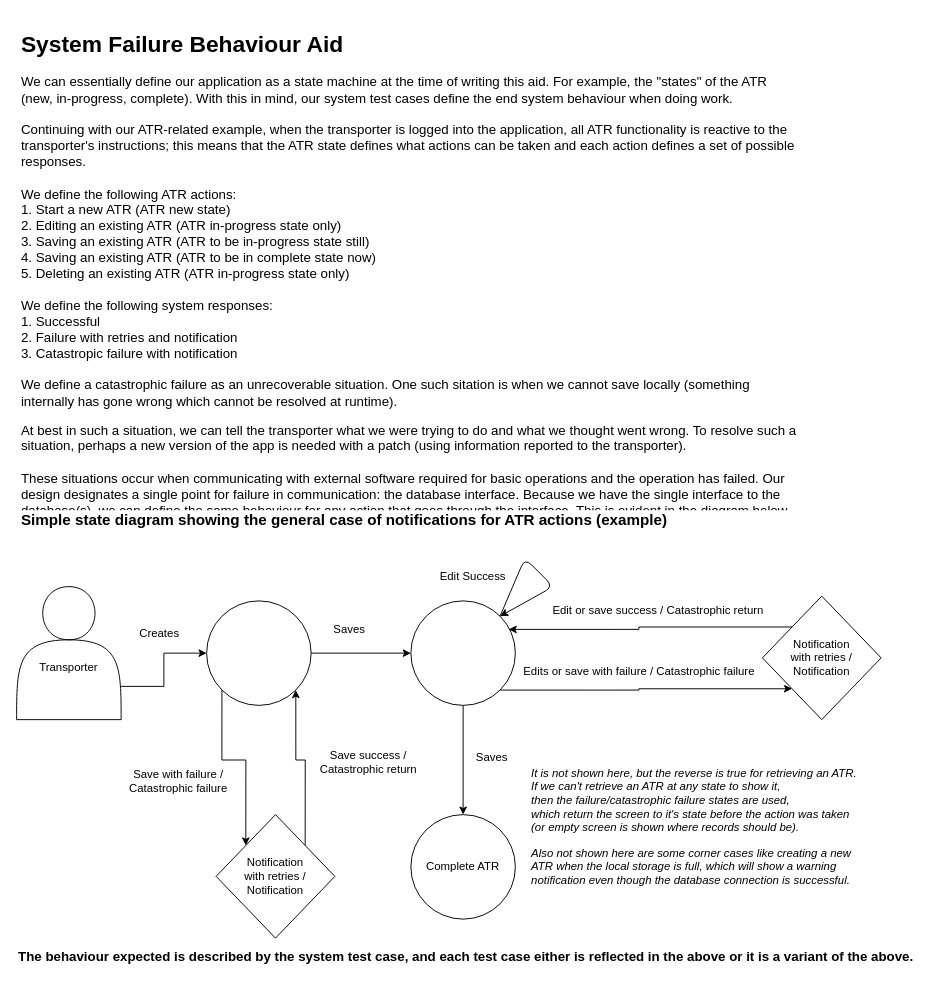
Image size: 945x982. Some labels were removed from this diagram. Each missing label, with the centre of its shape:
"In-Progress ATR" belongs at [462,652].
"New ATR" belongs at [258,652].
